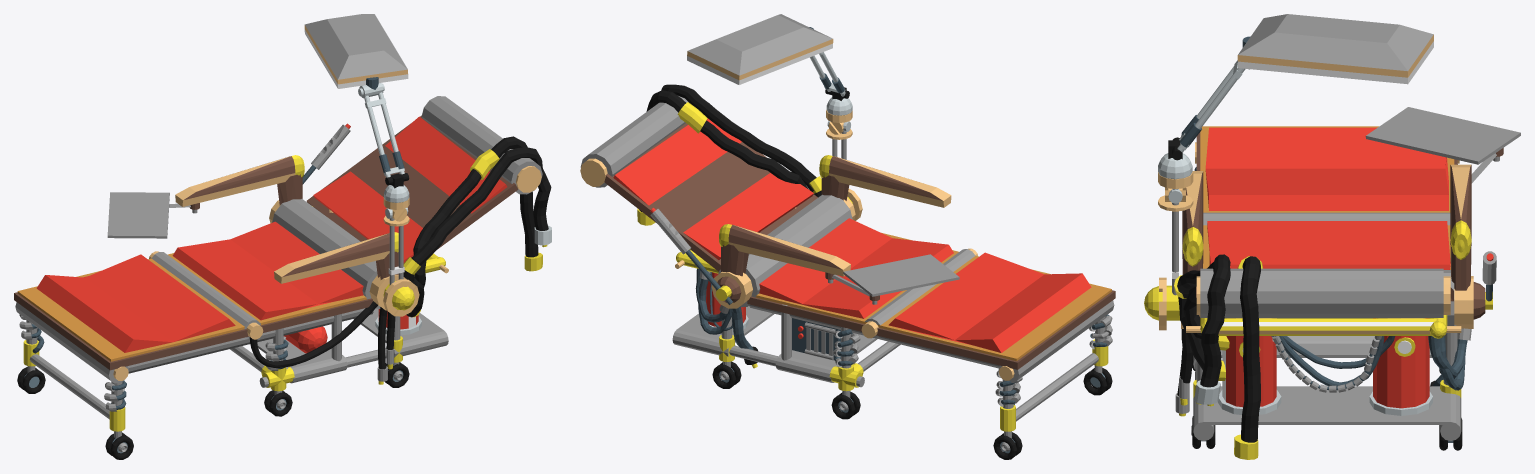
The model's file is gurney.glb.
3 renders of one model, left to right at view 1: azimuth 30°, elevation 25°; view 2: azimuth 150°, elevation 25°; view 3: azimuth 270°, elevation 25°, orthographic. The views are drawn at different scales.
Visible parts, largest first — view 1: group404663337, group1954440444, group1704689227, group690336496, group1324181841, group1547835463, group1685755865, group1804548570, group823724505, group1553651622, group1776919811, group731876622 (+19 smaller); view 2: group404663337, group1704689227, group1954440444, group1324181841, group690336496, group1547835463, group1685755865, group1804548570, group823724505, group1776919811, group1863711708, group731876622 (+17 smaller); view 3: group404663337, group1954440444, group823724505, group690336496, group1404207920, group1776919811, group298892421, group1869148171, group1607834928, group1553651622, group818201591, group1728536375 (+33 smaller).
Part boxes in pixels (x1,y1,x2,y2): group404663337: (36,254,235,352); group1954440444: (172,221,363,320); group1704689227: (313,116,507,263); group690336496: (304,14,407,79); group1324181841: (306,115,518,249); group1547835463: (17,253,366,361); group1685755865: (14,292,372,370); group1804548570: (272,199,380,308); group823724505: (421,96,542,194); group1553651622: (411,147,551,265); group1776919811: (107,192,169,238); group731876622: (175,156,295,206); group404663337: (888,252,1091,352); group1704689227: (613,118,813,259); group1954440444: (759,218,953,318); group1324181841: (604,123,817,271); group690336496: (688,14,832,75); group1547835463: (755,232,1111,360); group1685755865: (747,290,1115,369); group1804548570: (718,194,852,307); group823724505: (580,91,696,187); group1776919811: (843,254,959,296); group1863711708: (829,156,951,207); group731876622: (728,224,850,276); group404663337: (1205,127,1448,210); group1954440444: (1207,221,1450,269); group823724505: (1200,268,1443,317); group690336496: (1238,14,1433,71); group1404207920: (1203,386,1450,424); group1776919811: (1365,107,1520,164); group298892421: (1218,318,1436,335); group1869148171: (1373,318,1429,408); group1607834928: (1240,256,1260,442); group1553651622: (1177,254,1230,387); group818201591: (1222,336,1276,407); group1728536375: (1203,212,1450,225).
Size of the model in its own units: 2.01 by 1.36 by 1.07.
